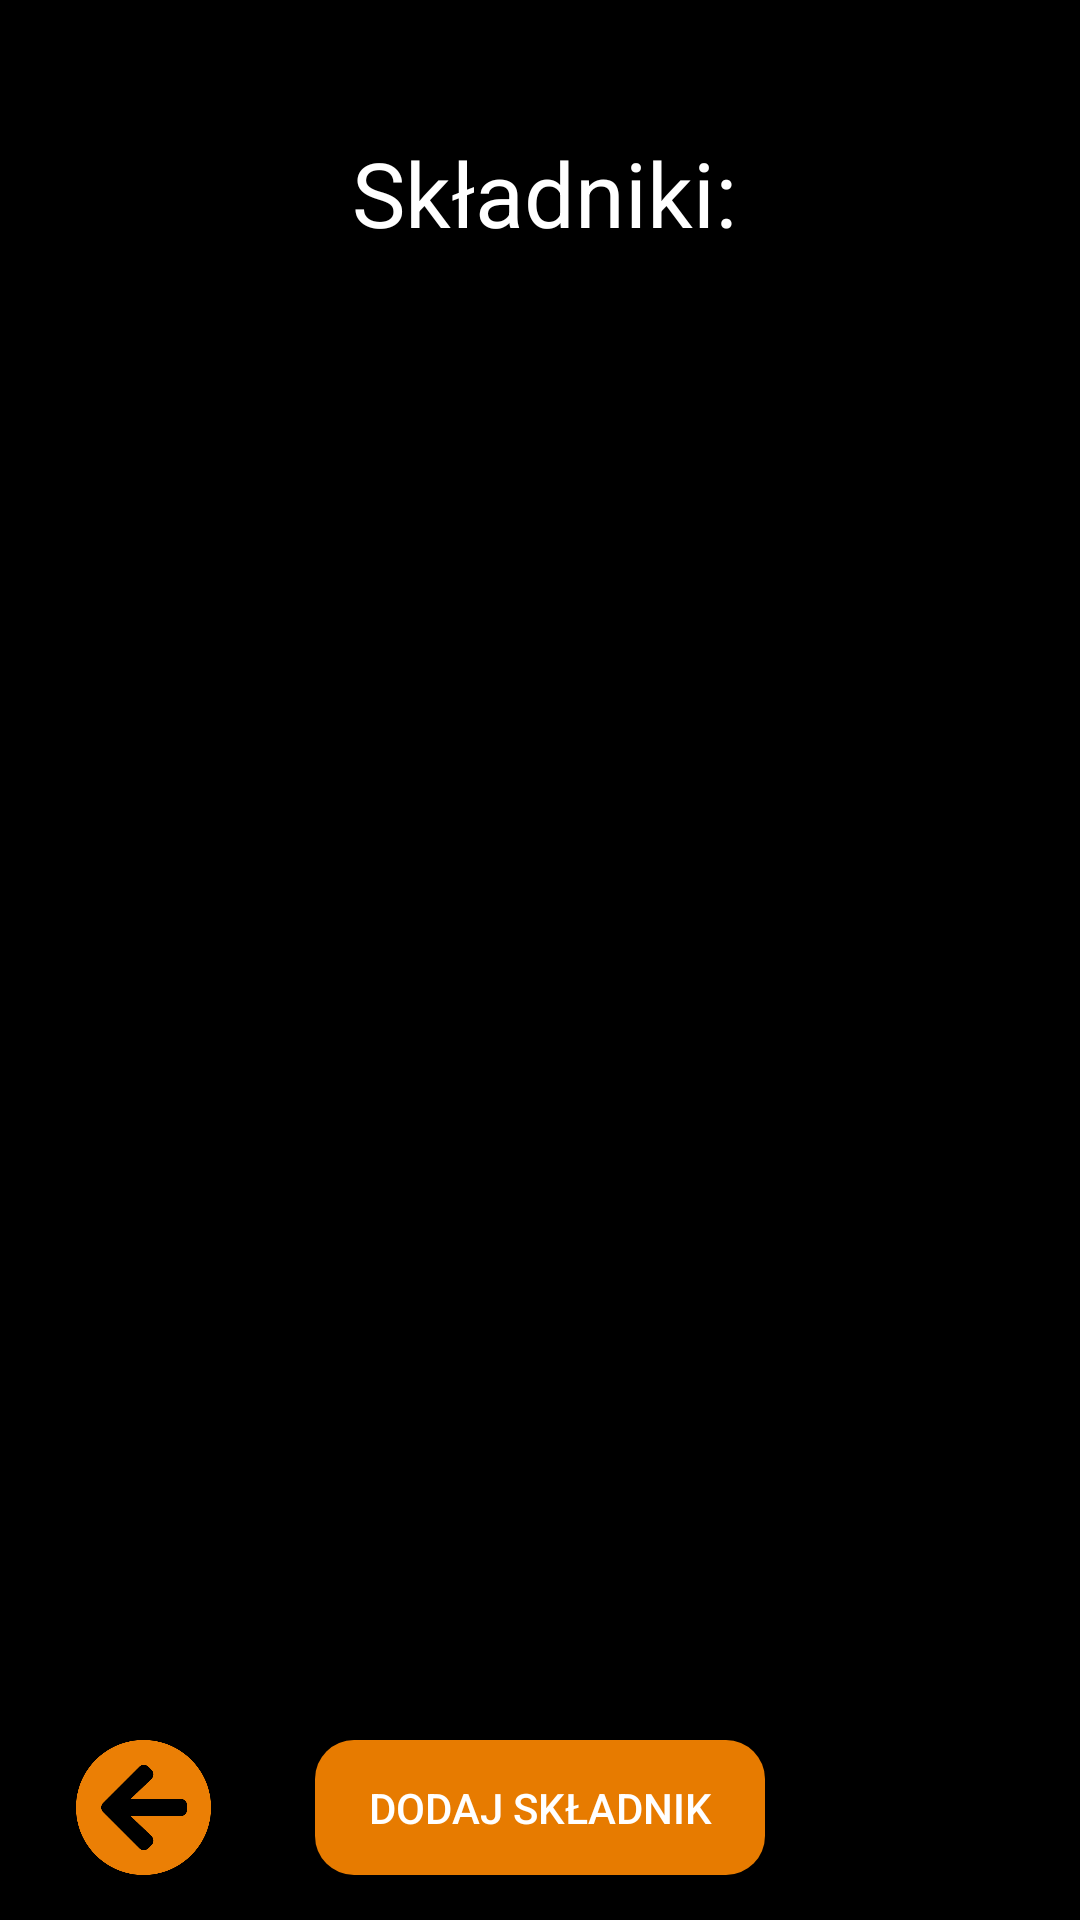

Where to tap for icons on this 1080px×1920px app screen, as (x,y):
back: (143,1807)
